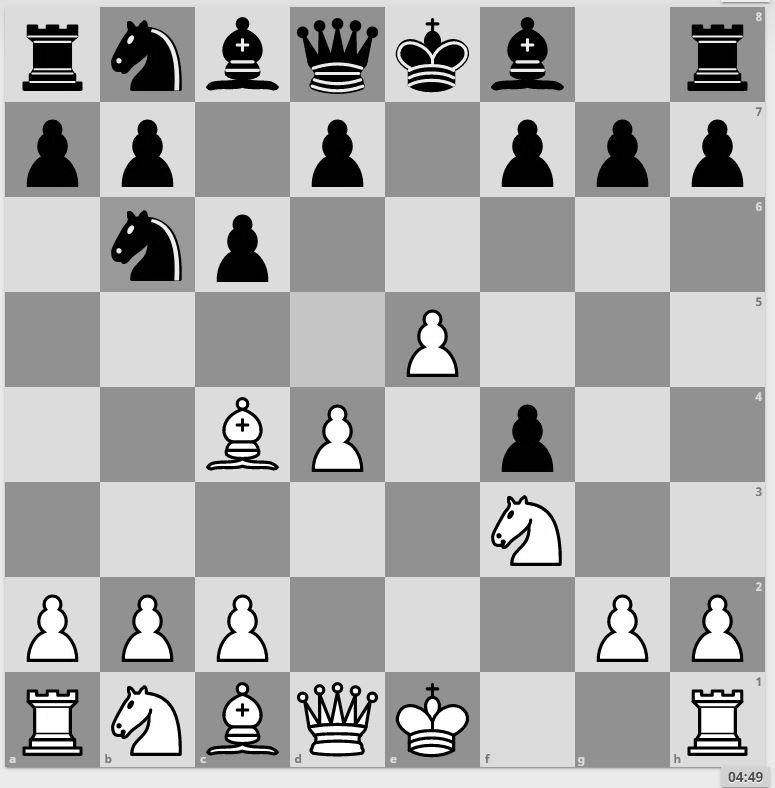bishop: (193, 386, 289, 480), (196, 667, 291, 761), (482, 9, 575, 100), (198, 1, 288, 93)
king: (389, 4, 480, 97), (388, 668, 480, 759)
knight: (102, 667, 196, 761), (480, 485, 572, 580), (101, 3, 195, 95), (103, 197, 192, 290)
pawn: (477, 388, 574, 485), (291, 386, 387, 482), (479, 96, 575, 192), (4, 574, 100, 667), (102, 97, 195, 193), (195, 196, 287, 293), (575, 571, 670, 664), (670, 572, 766, 664), (5, 100, 99, 193), (292, 98, 384, 193), (385, 293, 477, 388), (386, 383, 479, 476), (579, 97, 670, 192), (103, 572, 195, 664), (196, 575, 292, 663), (671, 99, 763, 189)
queen: (291, 5, 386, 97), (294, 668, 386, 758)
rook: (4, 667, 102, 763), (669, 665, 763, 759), (670, 5, 765, 97), (6, 5, 98, 93)
